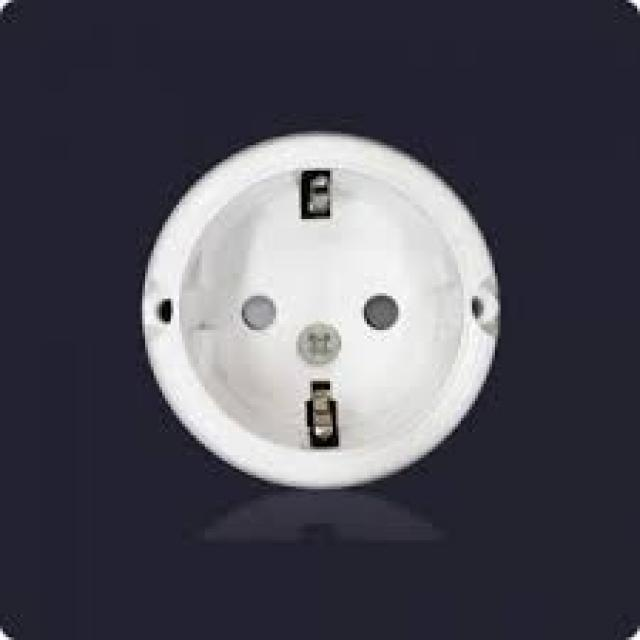typeb: (82, 82, 530, 517)
